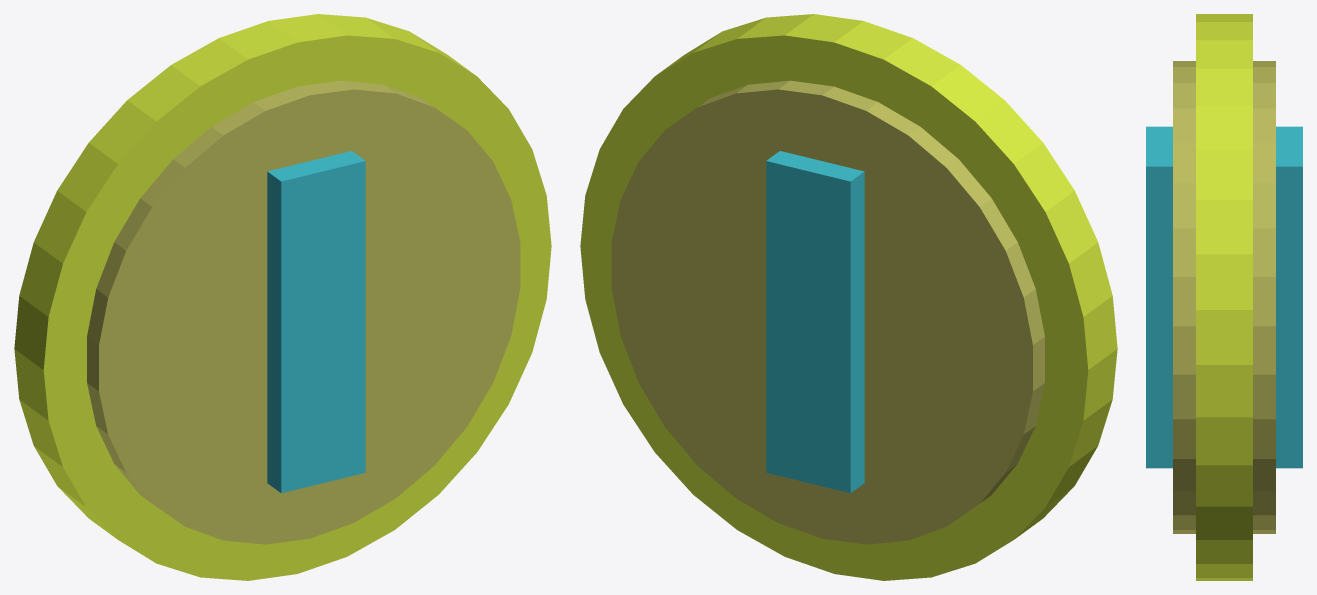
File: CoinPickup.fbx
3 views of the same model, side by side, from view 1: azimuth 30°, elevation 25°; view 2: azimuth 150°, elevation 25°; view 3: azimuth 270°, elevation 25° (orthographic). The views are drawn at different scales.
Parts seen in each view (by area): view 1: Cylinder.001, Cylinder, Cube; view 2: Cylinder.001, Cylinder, Cube; view 3: Cylinder, Cylinder.001, Cube.
Boxes of the visible parts, x1,y1,x2,y2 form: Cylinder.001: [87, 80, 520, 544]; Cylinder: [14, 14, 551, 580]; Cube: [267, 151, 365, 493]; Cylinder.001: [611, 80, 1044, 544]; Cylinder: [580, 14, 1117, 580]; Cube: [766, 151, 864, 493]; Cylinder: [1196, 14, 1252, 580]; Cylinder.001: [1173, 61, 1275, 533]; Cube: [1146, 126, 1302, 468].
Bounding box in the file's own units: 200 × 200 × 55.3.
